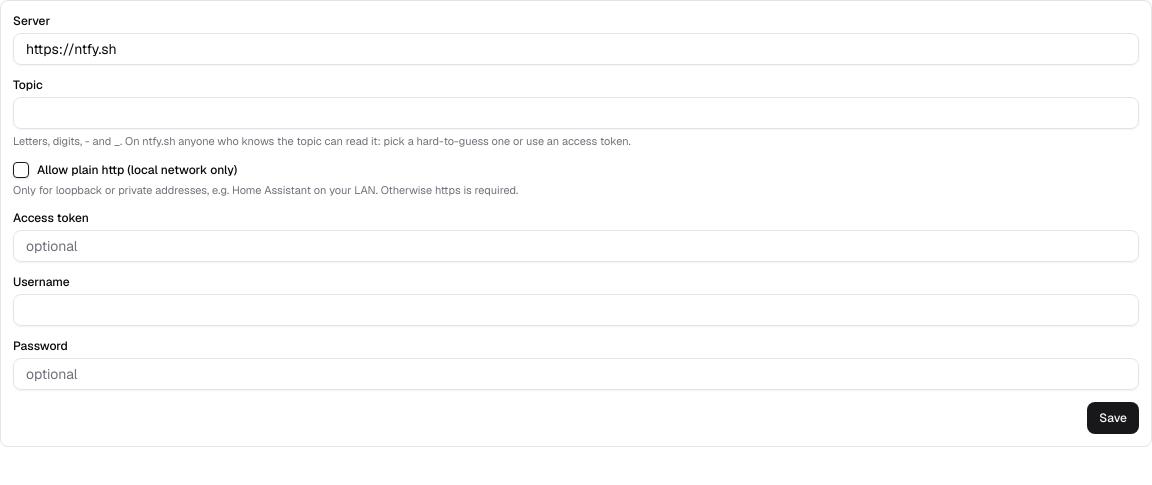
Test: ntfy settings › explains a bad topic
The image size is (1152, 485).
Step 1. Click the button "Save" → (1113, 418), box [1087,402,1139,434]
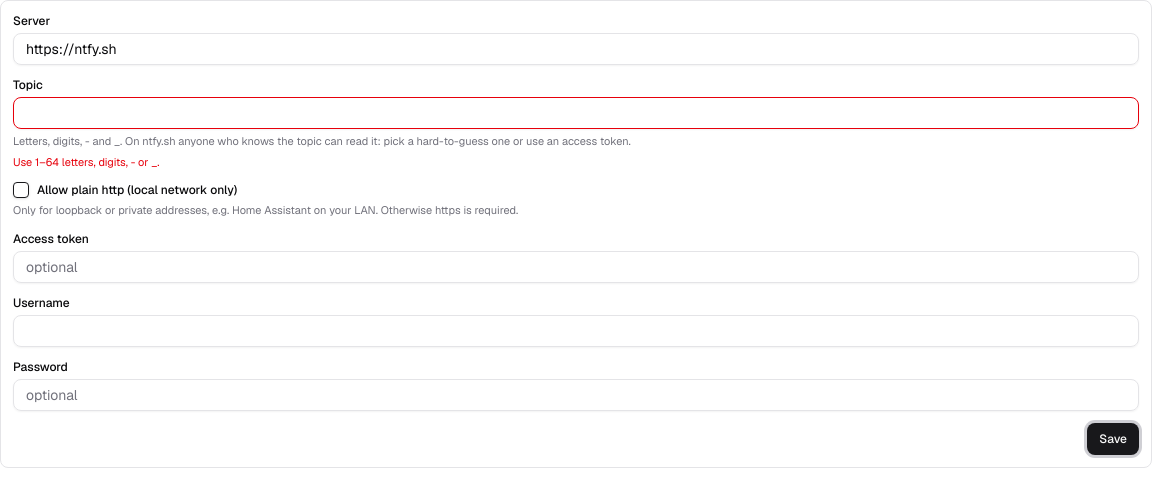
Check: the text "Use 1–64 letters, digits, - or _." is shown, box [13,154,160,168]
